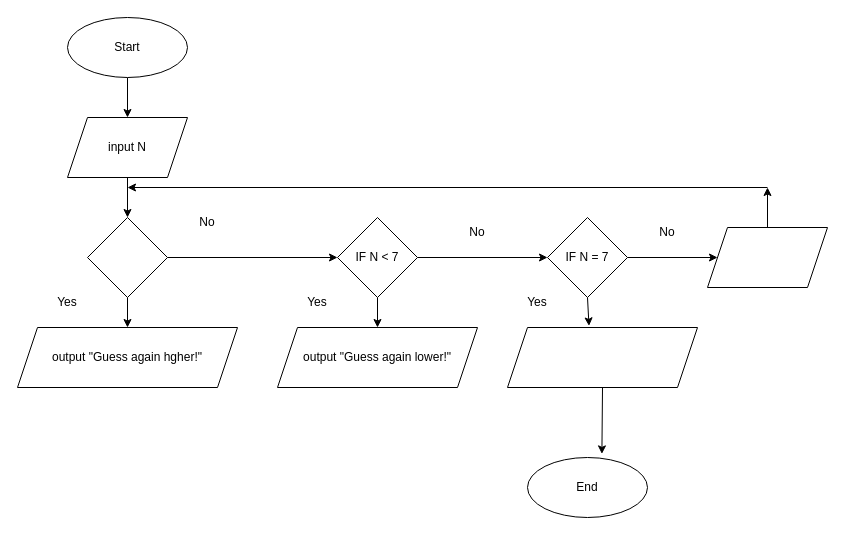
Image size: 845x535. Some labels were removed from this diagram. The shapes that lost their labels are listed below. From the top down, each one's centre as x and y in pixels, then its label:
(x=127, y=257): IF N > 7
(x=767, y=257): output "Try again"
(x=602, y=357): output "You are corect!"
